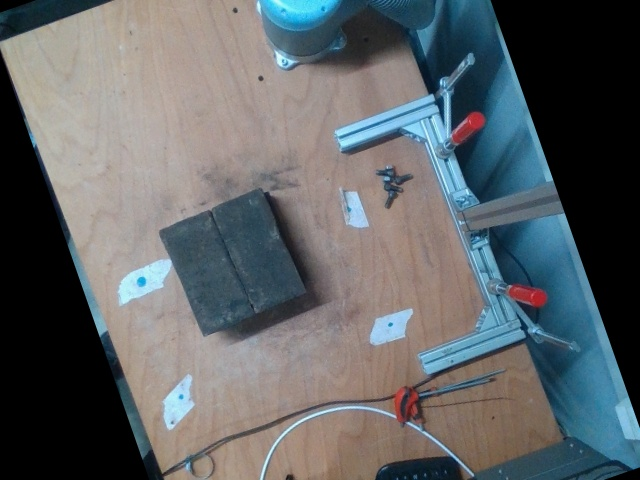brick: (211, 187, 305, 316), (160, 211, 250, 334)
